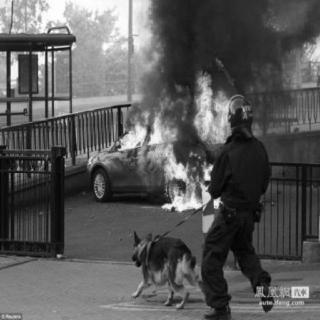Smoke: (137, 0, 309, 88)
